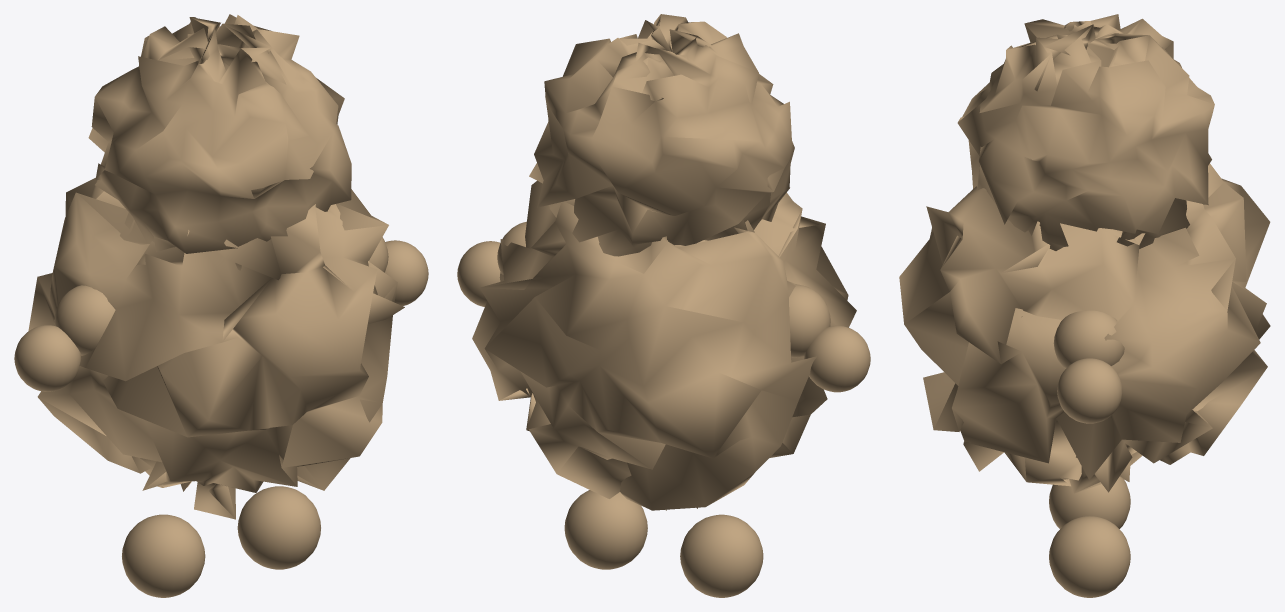
The model's file is clay_coconut_monkey.glb.
3 renders of one model, left to right at view 1: azimuth 30°, elevation 25°; view 2: azimuth 150°, elevation 25°; view 3: azimuth 270°, elevation 25°, orthographic.
Visible parts, largest first — view 1: leg.001; view 2: leg.001; view 3: leg.001.
Part boxes in pixels (x1,y1,x2,y2): leg.001: (14,14,428,597); leg.001: (457,14,870,597); leg.001: (899,14,1270,597).
Bounding box in the file's own units: 1.54 × 2.01 × 1.25.
